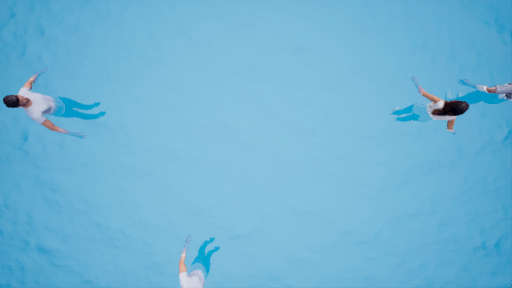person: (1, 69, 110, 138), (397, 81, 469, 134), (175, 233, 220, 288), (465, 73, 512, 118)
